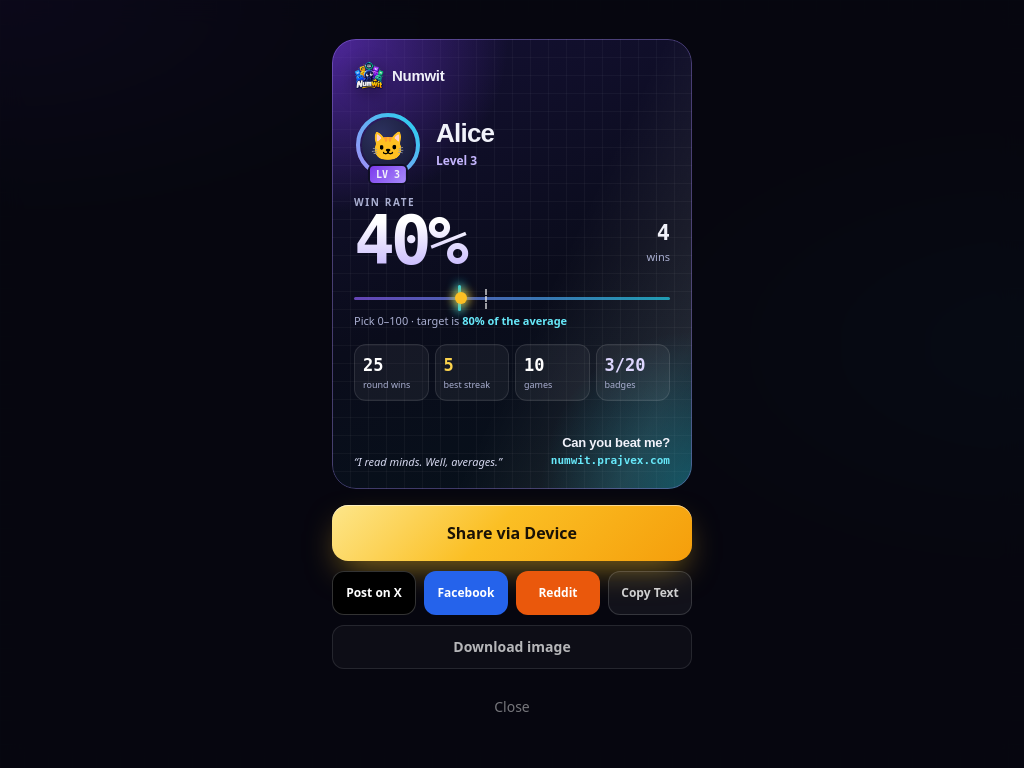
ShareCardModal › shows an error message when PNG generation fails
Step 1. Click the button "Download image" → [512, 647], box [332, 625, 692, 669]
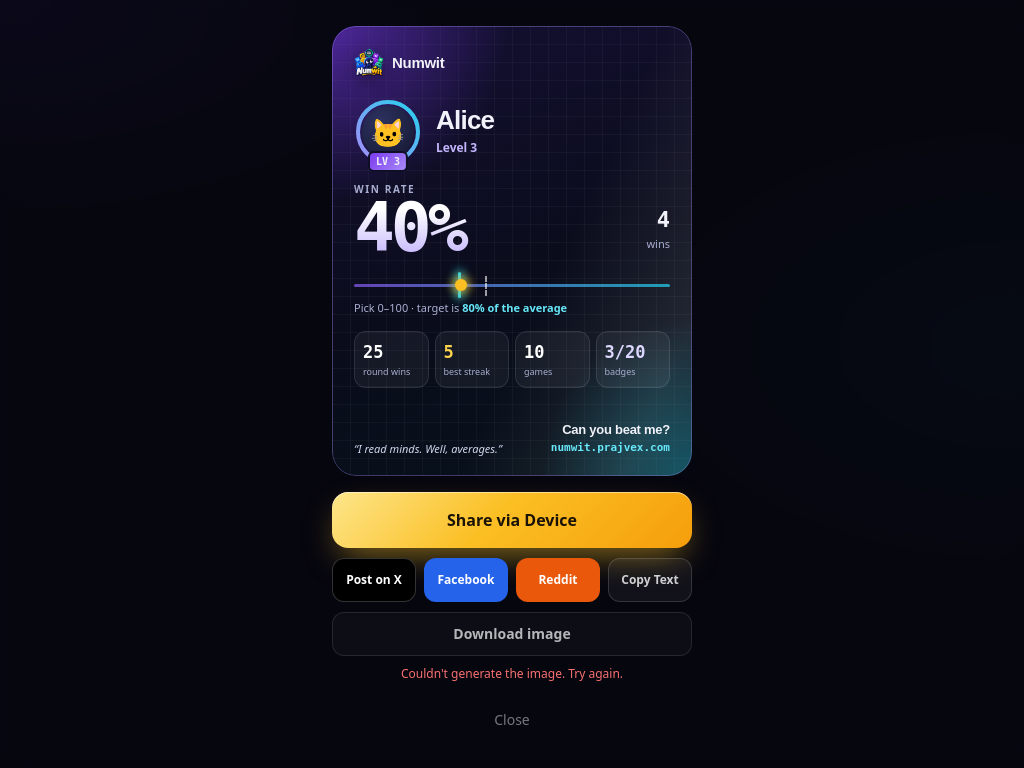
Check: the text "Couldn't generate the image. Try again." is shown, box [401, 665, 623, 682]
